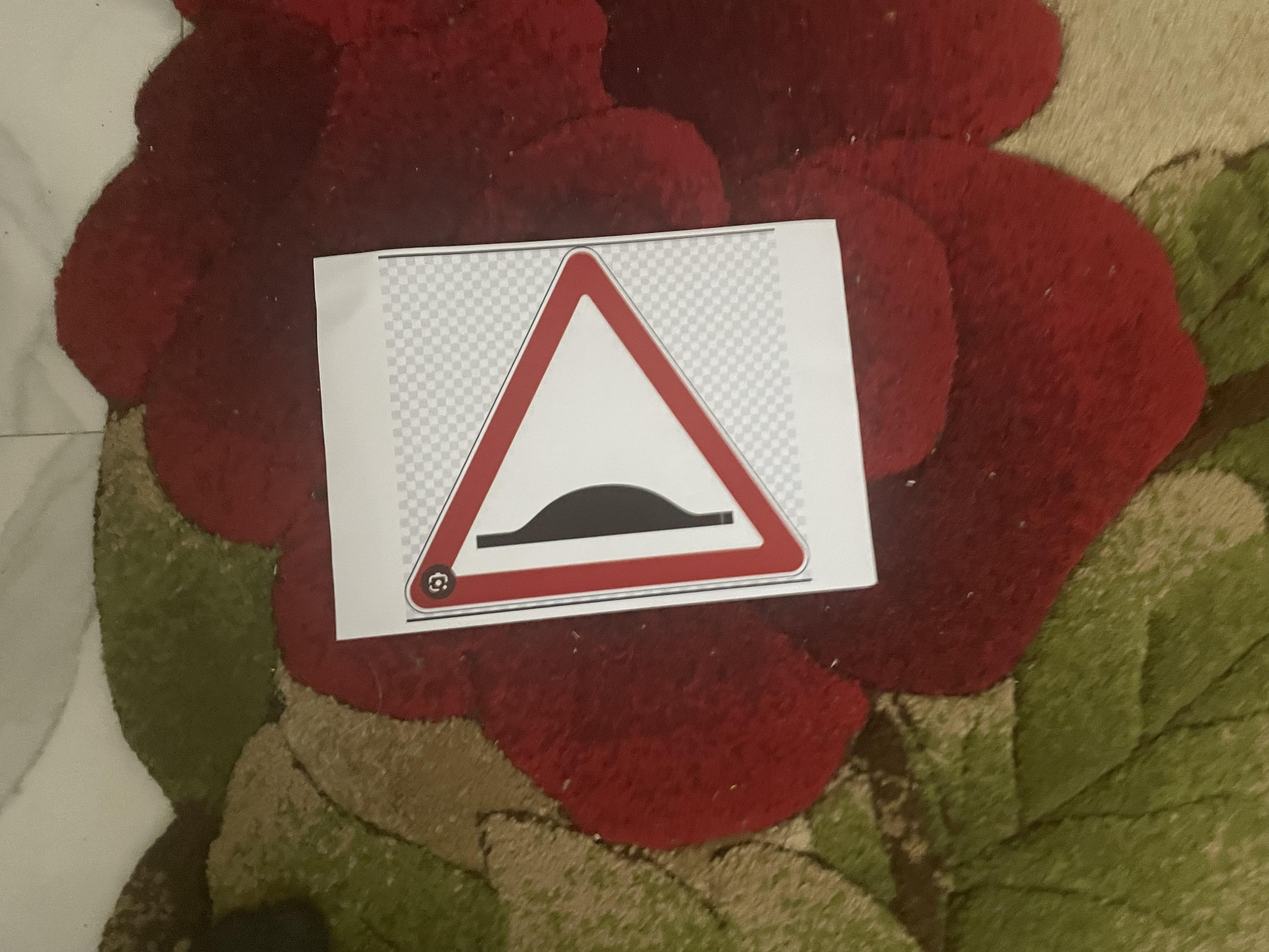Hump: (452, 300, 953, 613)
